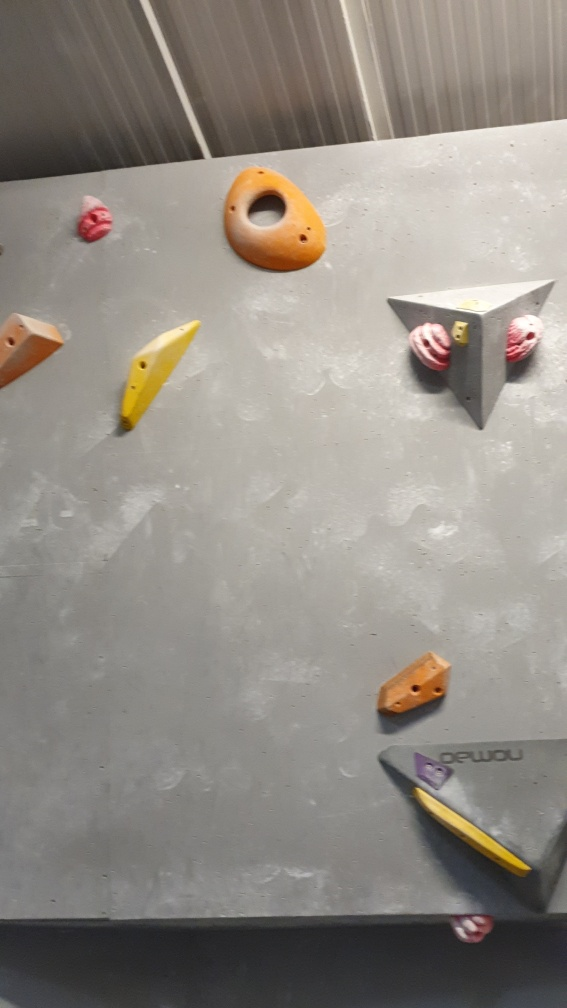Crimp: (415, 751, 453, 792)
Jug: (410, 320, 455, 374), (506, 315, 542, 367), (78, 196, 117, 243)
Pinch: (118, 317, 202, 434), (1, 309, 66, 395), (375, 651, 452, 719)
Pocket: (224, 165, 331, 274)
